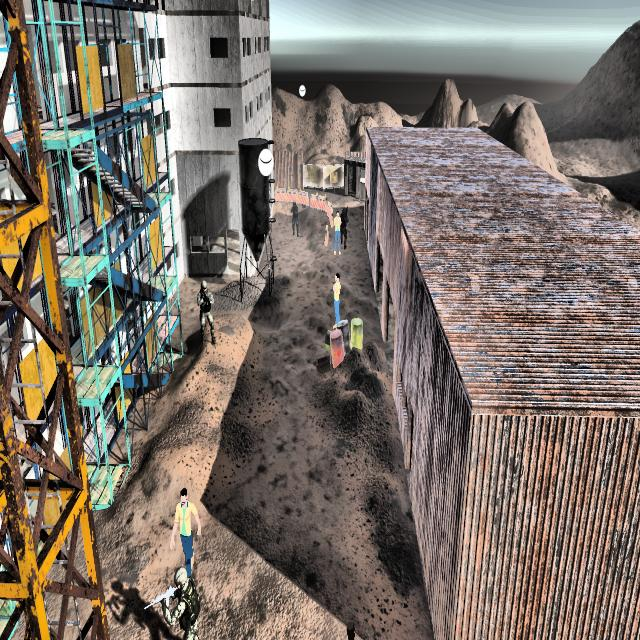bad: (158, 563, 200, 640), (192, 264, 221, 354), (288, 189, 303, 242), (340, 200, 350, 254)
good: (170, 481, 199, 568), (329, 268, 342, 325), (329, 204, 341, 256)
